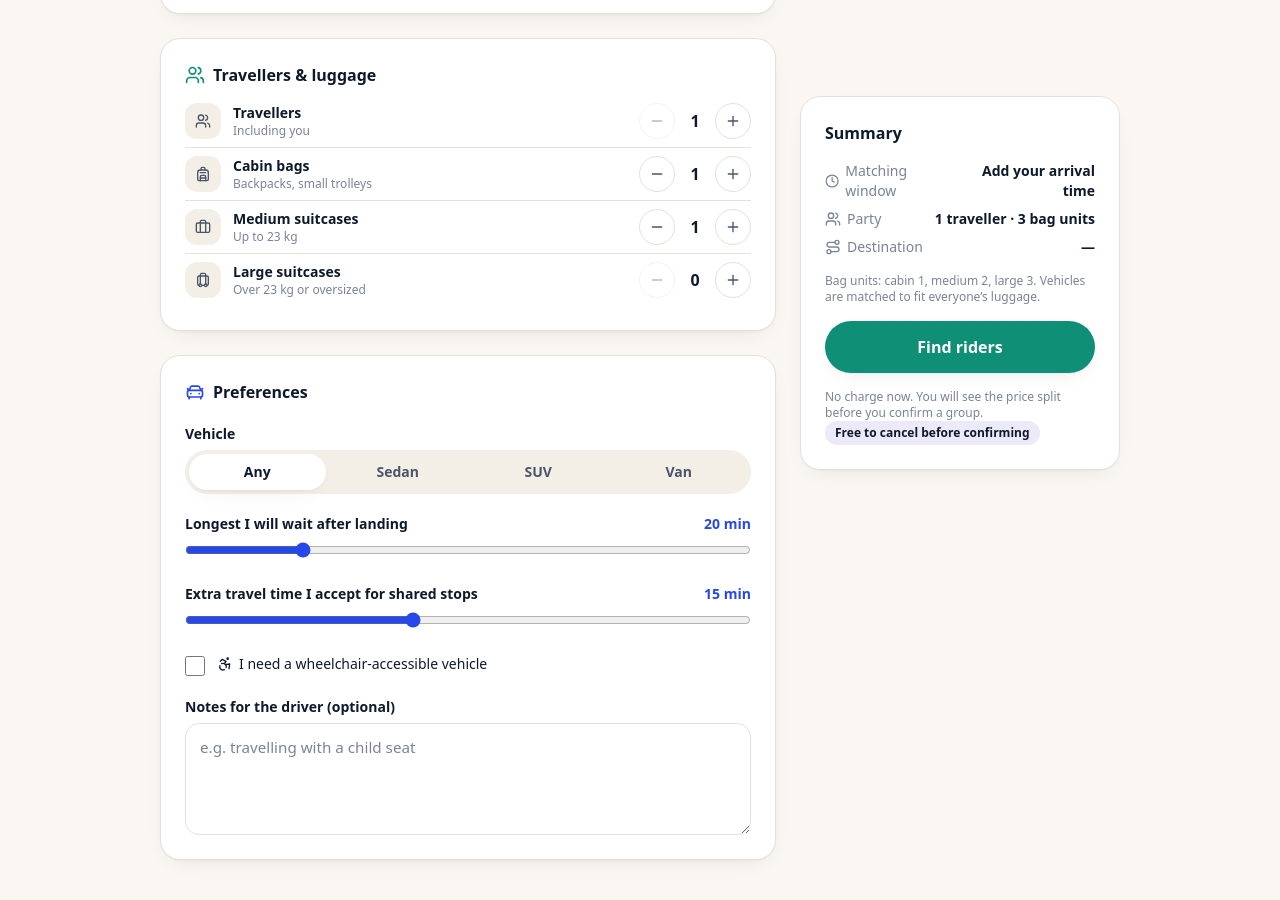
it: New ride request › explains wheelchair + sedan is not possible
(page scrolled)
Click the radio button labelled "Sedan".
click(398, 471)  # box [376,462,419,481]
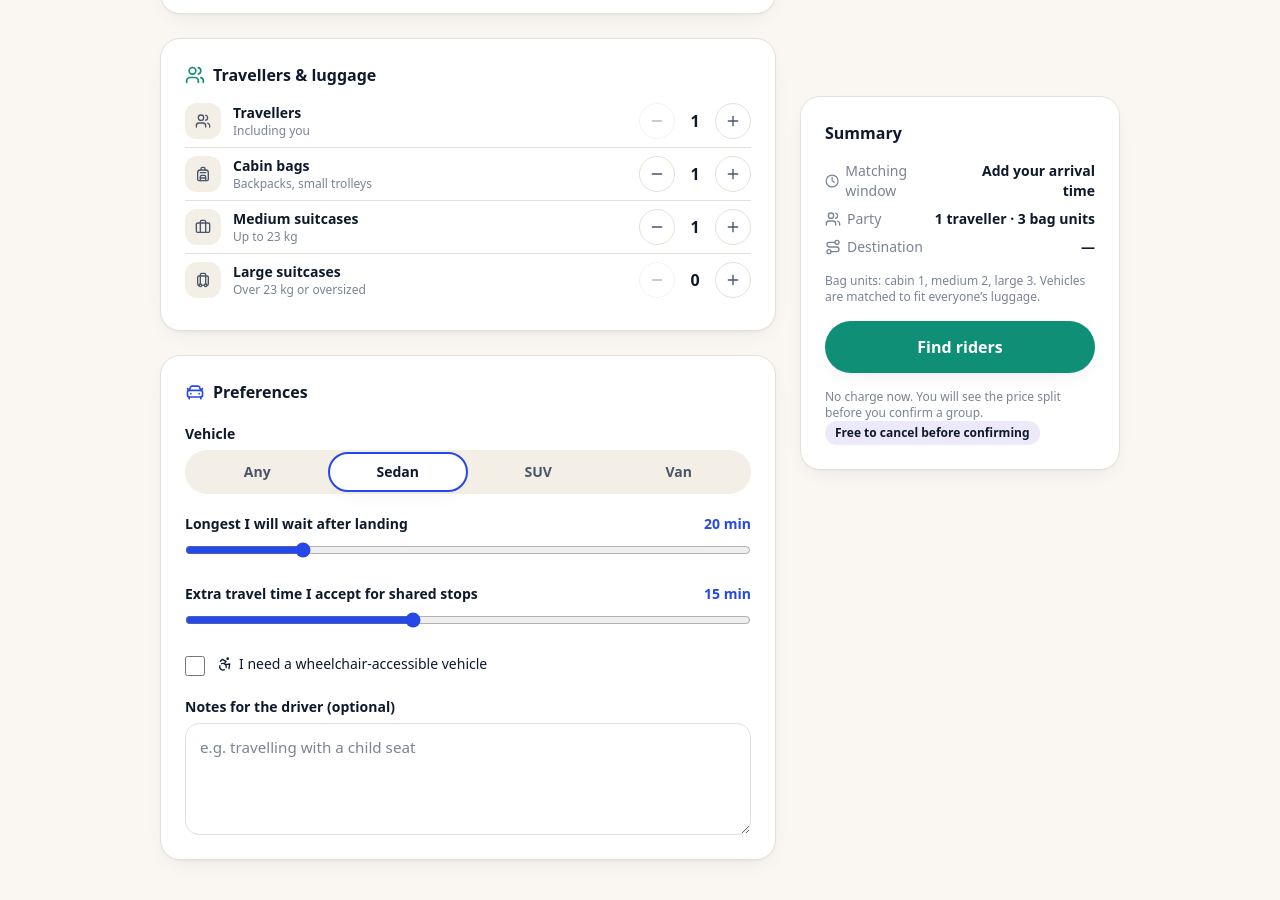
Click the checkbox labelled "I need a wheelchair-accessible vehicle".
click(195, 666)  # box [185,656,205,676]
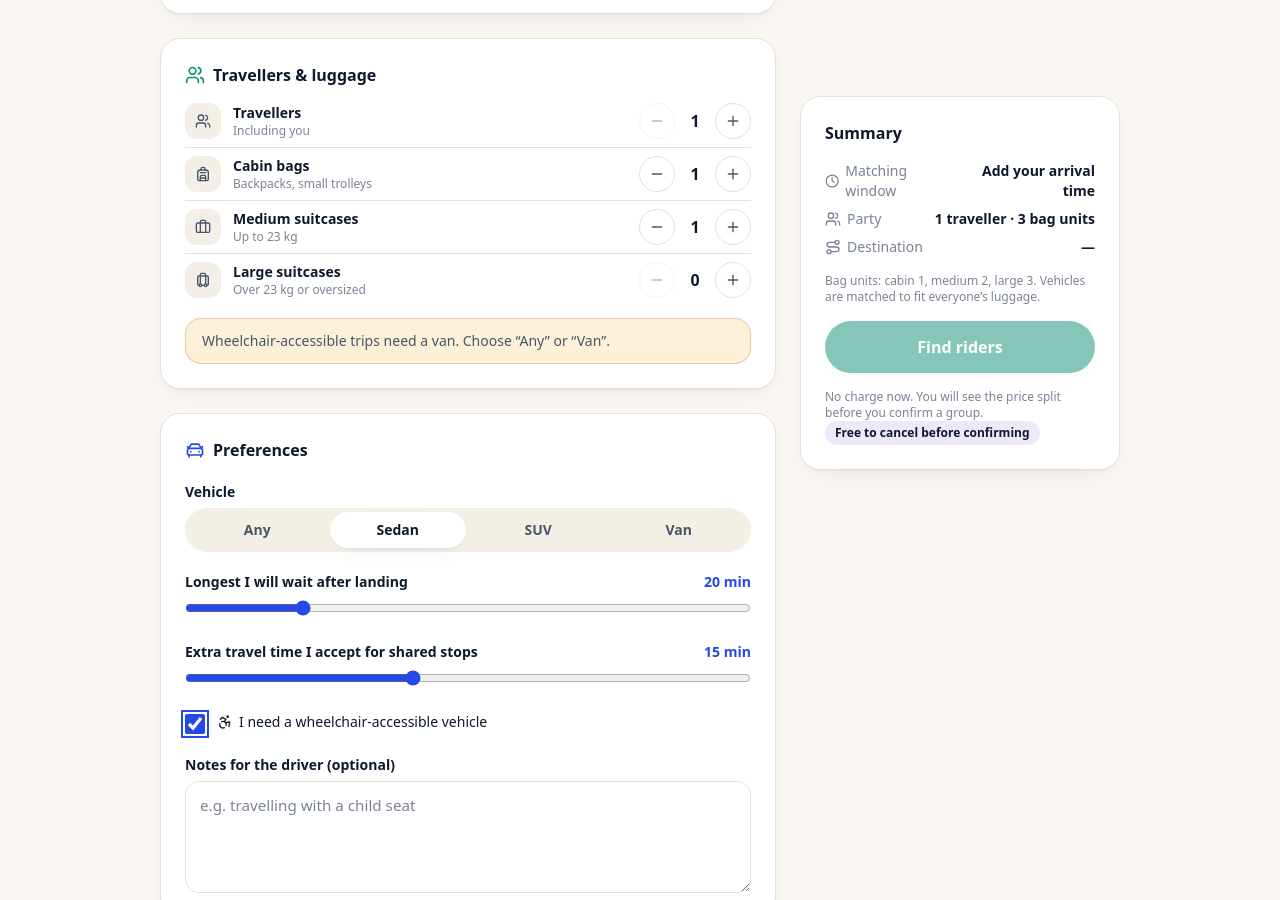
Check: the text "Wheelchair-accessible trips need a van" is shown, box [202,331,610,350]
